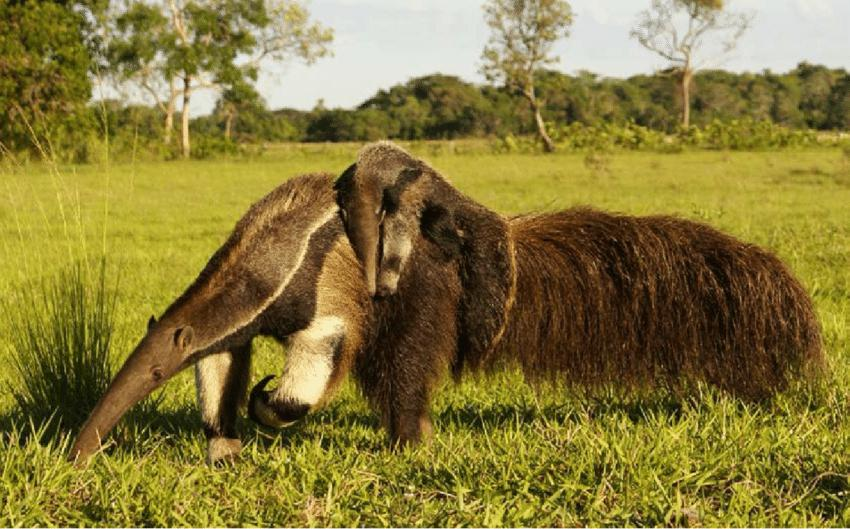TamanduaBandeira: (62, 175, 817, 473), (335, 136, 521, 357)
